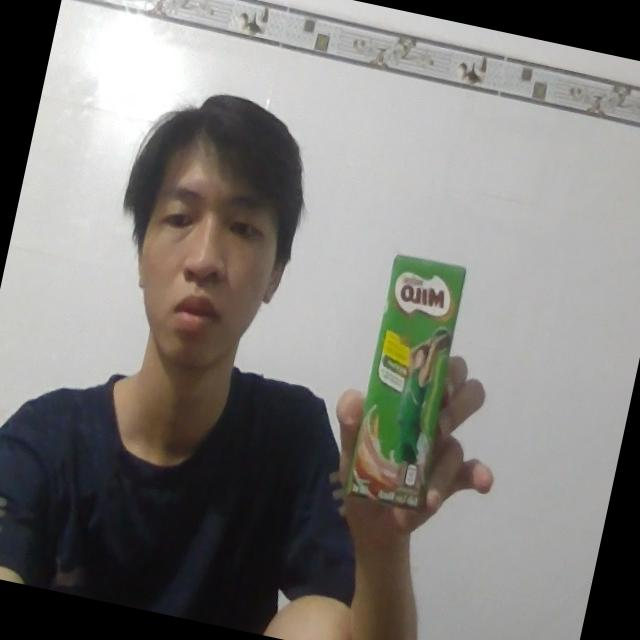sua milo: (338, 242, 482, 515)
